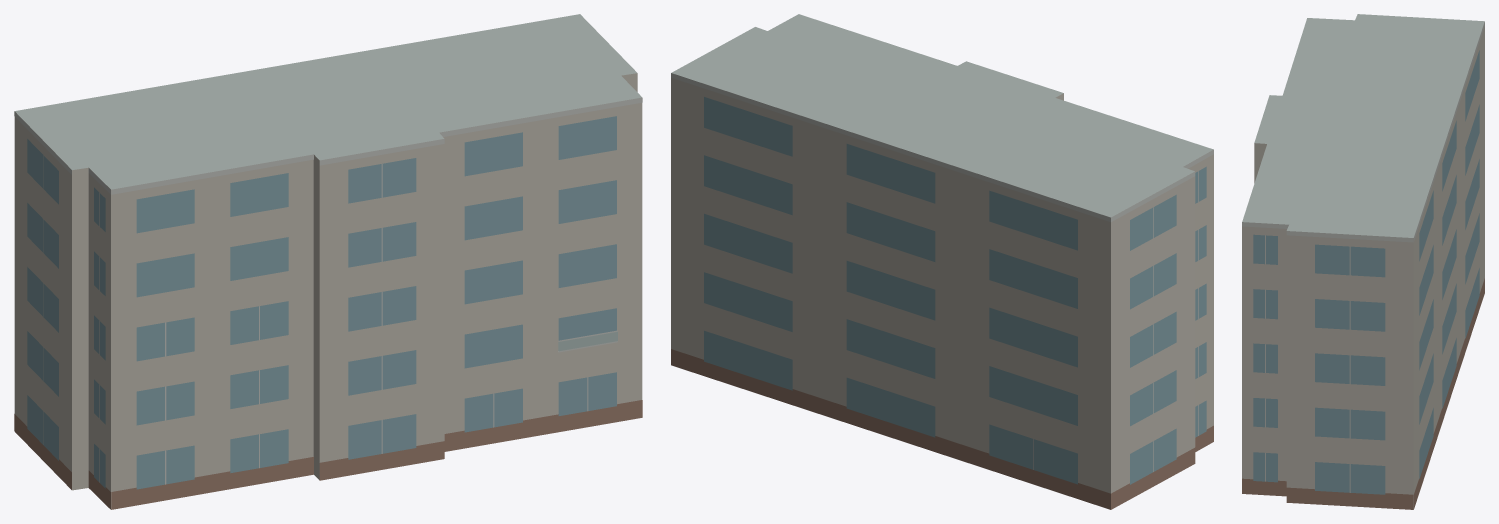
File: survey-upis-32595646.glb
3 renders of one model, left to right at view 1: azimuth 30°, elevation 25°; view 2: azimuth 150°, elevation 25°; view 3: azimuth 270°, elevation 25°, orthographic. The views are drawn at different scales.
Visible parts, largest first — view 1: survey-upis-32595646.tmp; view 2: survey-upis-32595646.tmp; view 3: survey-upis-32595646.tmp.
Part boxes in pixels (left/top/right/bottom): survey-upis-32595646.tmp: left=14, top=14, right=642, bottom=509; survey-upis-32595646.tmp: left=671, top=14, right=1213, bottom=509; survey-upis-32595646.tmp: left=1242, top=14, right=1484, bottom=509.
Bounding box in the file's own units: 26.71 × 15.1 × 12.23.
